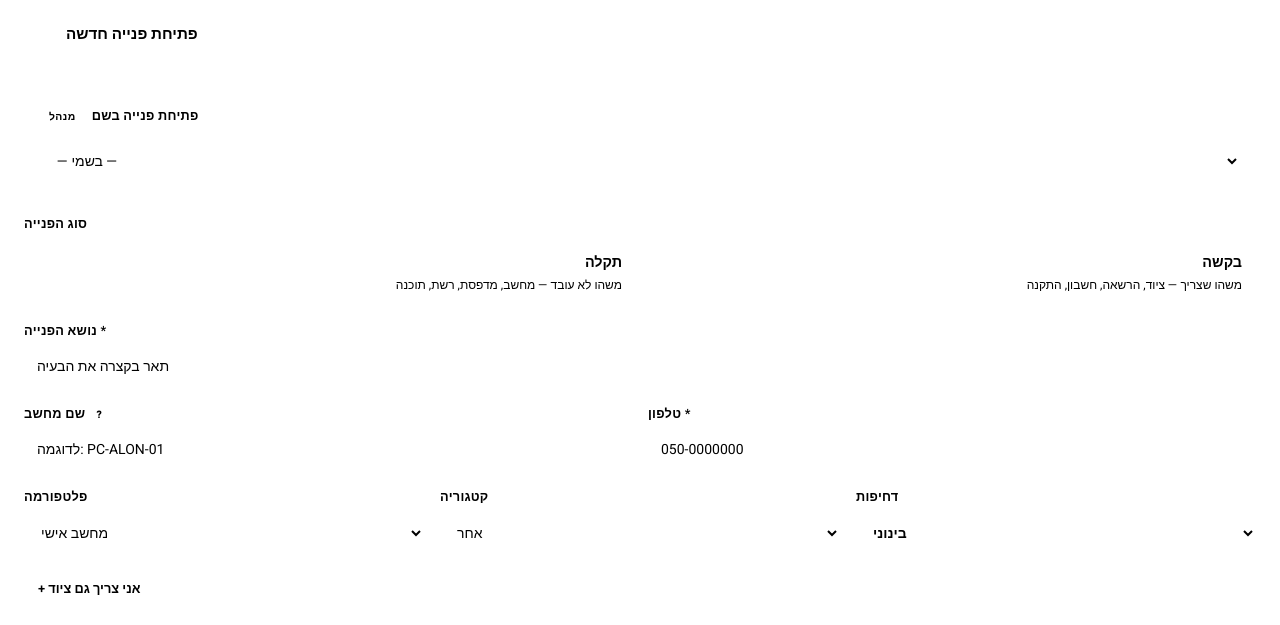
Test: TicketForm › open in someone else's name (admin) › says where each filled value came from
The width and height of the screenshot is (1280, 625).
Select "דנה כהן — dana@cristalino.co.il" in the dropdown labelled "פתיחת פנייה בשם" at point(640, 161), box x1=40 y1=140 x2=1240 y2=183
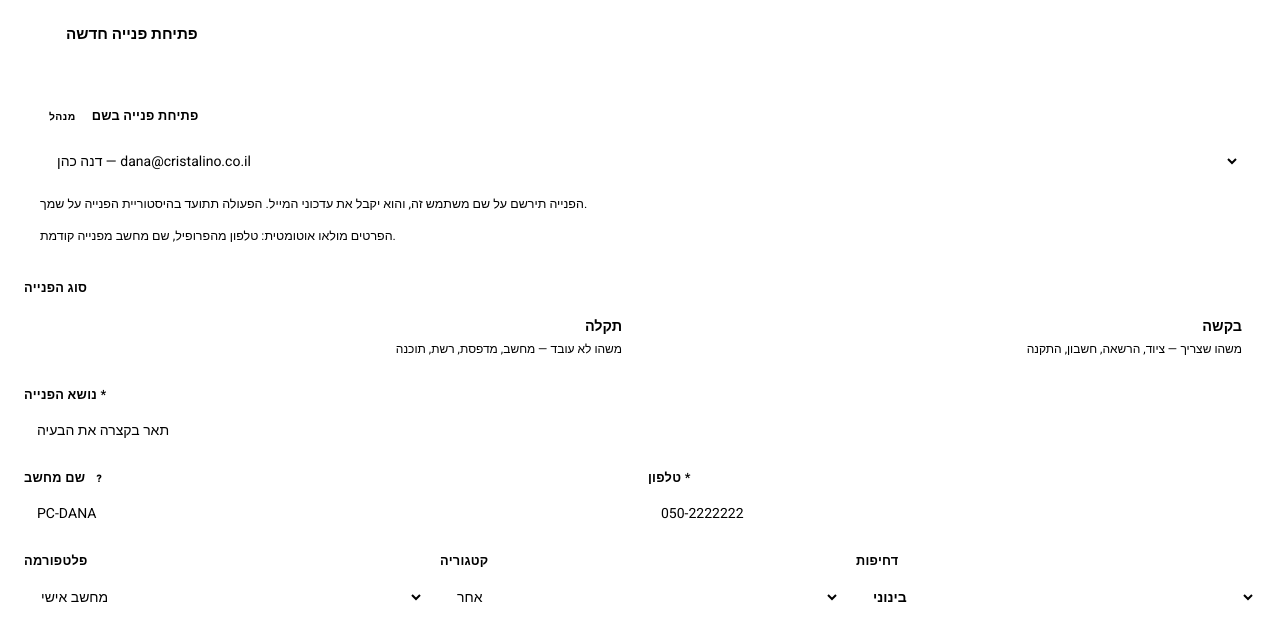
Check: the text "הפרטים מולאו אוטומטית: טלפון מהפרופיל, שם מחשב מפנייה קודמת." is shown, box x1=40 y1=227 x2=396 y2=245
